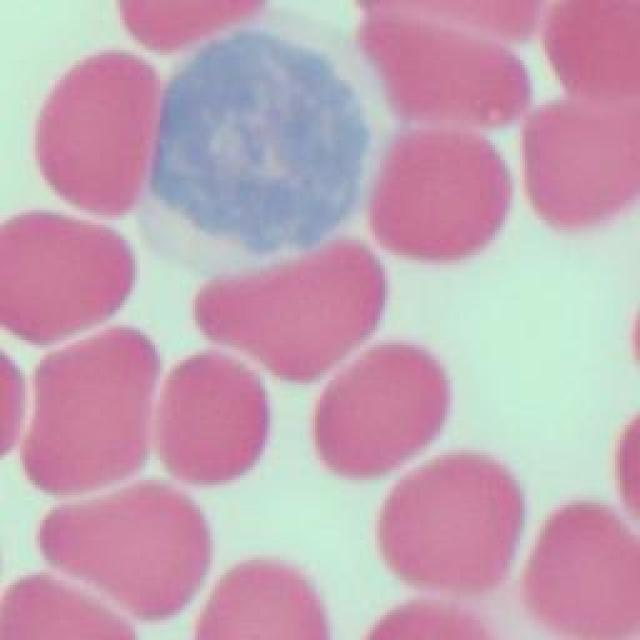RBC: (196, 236, 386, 384), (18, 324, 164, 496), (38, 478, 212, 618), (35, 49, 163, 216), (378, 454, 524, 594), (359, 24, 531, 131), (311, 343, 449, 475), (374, 134, 508, 264), (517, 500, 640, 640), (1, 217, 134, 345), (154, 354, 268, 486), (520, 109, 640, 231), (195, 557, 330, 640), (540, 5, 640, 107), (0, 577, 132, 640), (116, 0, 266, 52), (368, 602, 492, 640), (615, 410, 640, 520), (1, 352, 24, 452)
WBC: (136, 20, 379, 280)
